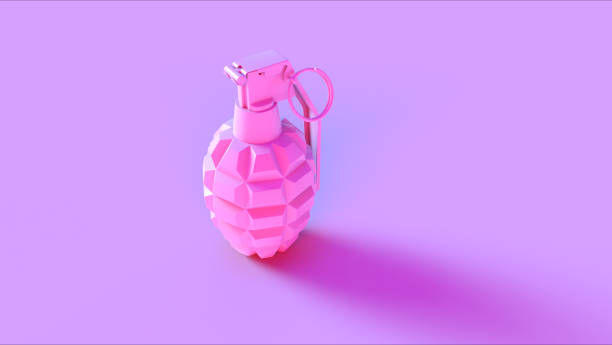e1: (199, 45, 337, 262)
